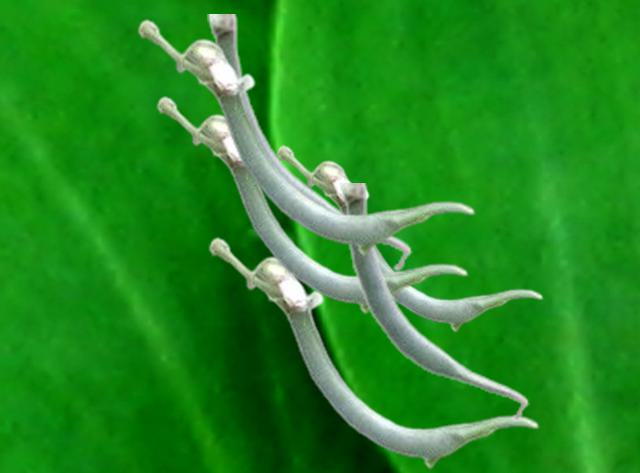french_bean: (137, 18, 474, 255), (208, 236, 538, 468), (156, 95, 467, 313), (207, 14, 411, 269), (276, 144, 542, 331), (339, 183, 528, 422)
